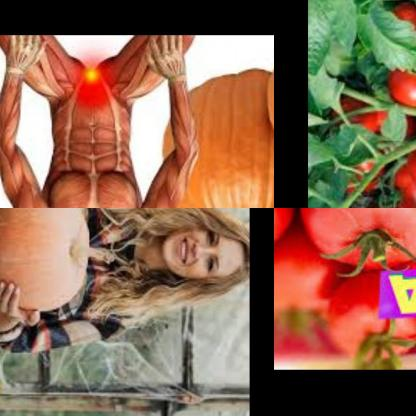pumpkin: (159, 66, 274, 208), (0, 208, 96, 321)
tomato: (301, 208, 416, 276), (325, 286, 416, 366), (274, 230, 345, 330), (382, 57, 416, 111), (381, 5, 416, 54), (385, 170, 416, 208), (362, 190, 411, 208), (274, 208, 292, 247)
